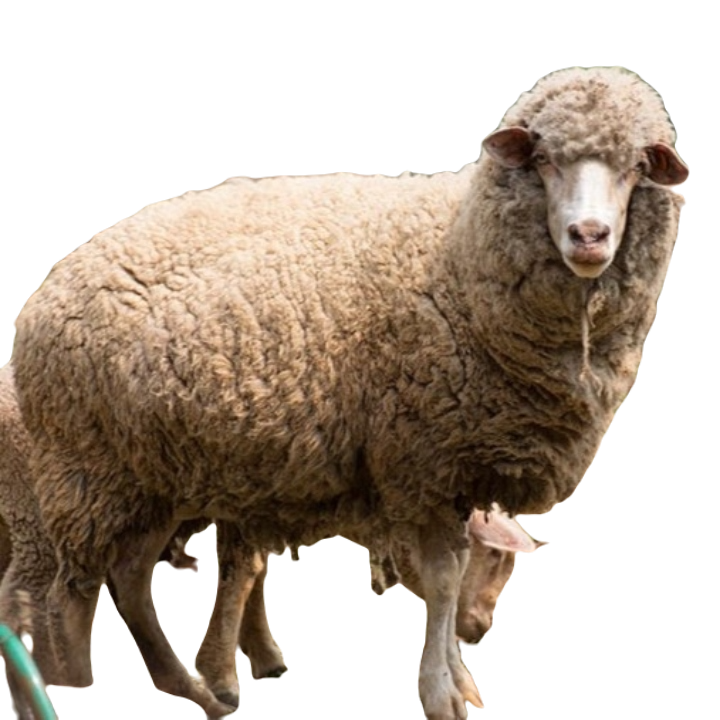Sheep: (8, 62, 691, 719)
